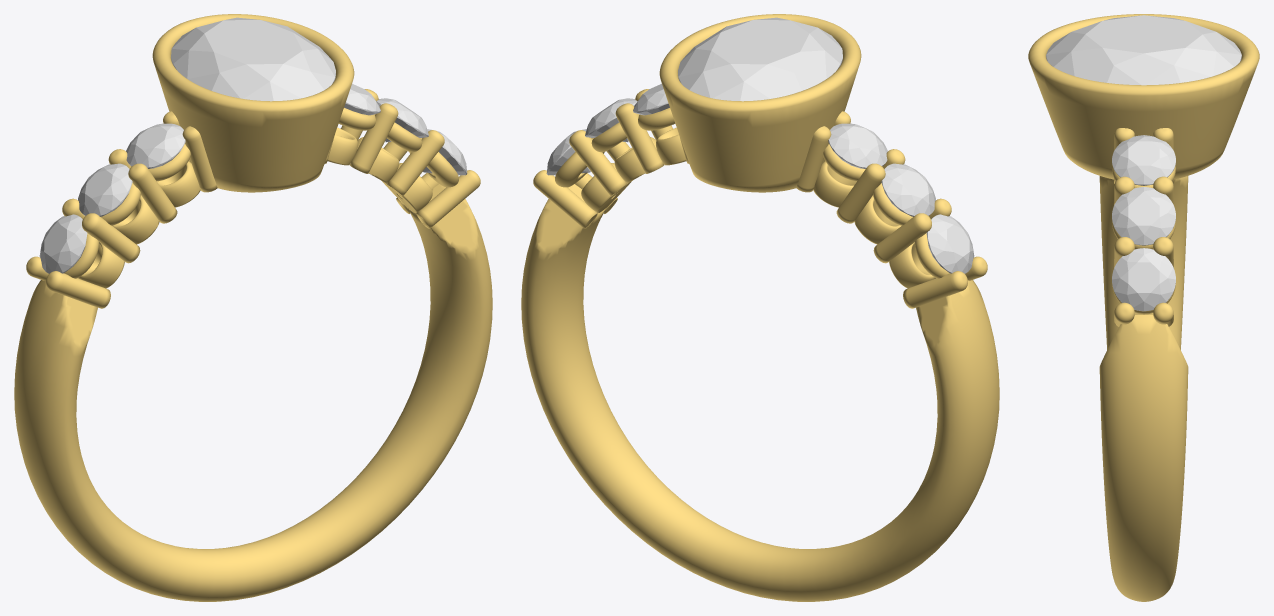
Rendered from diamond-oval-yellowgold-bezelset-taperedband-7stone.glb.
3 views of the same model, side by side, from view 1: azimuth 30°, elevation 25°; view 2: azimuth 150°, elevation 25°; view 3: azimuth 270°, elevation 25° (orthographic).
Parts seen in each view (by area): view 1: metal, stone.002, side.018, side.019, side.020, side.022, side.023, side.021; view 2: metal, stone.002, side.018, side.019, side.020, side.022, side.023, side.021; view 3: metal, stone.002, side.021, side.022, side.023.
Boxes of the visible parts, x1=… form: metal: x1=14, y1=14, x2=492, y2=601; stone.002: x1=171, y1=17, x2=335, y2=101; side.018: x1=39, y1=214, x2=87, y2=273; side.019: x1=78, y1=163, x2=132, y2=216; side.020: x1=126, y1=123, x2=185, y2=168; side.022: x1=376, y1=98, x2=428, y2=142; side.023: x1=340, y1=83, x2=380, y2=124; side.021: x1=422, y1=129, x2=467, y2=175; metal: x1=521, y1=14, x2=999, y2=601; stone.002: x1=678, y1=17, x2=842, y2=101; side.018: x1=926, y1=214, x2=974, y2=273; side.019: x1=881, y1=163, x2=935, y2=216; side.020: x1=828, y1=123, x2=887, y2=168; side.022: x1=585, y1=98, x2=637, y2=142; side.023: x1=633, y1=83, x2=673, y2=124; side.021: x1=546, y1=129, x2=591, y2=175; metal: x1=1028, y1=14, x2=1259, y2=601; stone.002: x1=1046, y1=15, x2=1241, y2=85; side.021: x1=1112, y1=248, x2=1175, y2=311; side.022: x1=1112, y1=187, x2=1175, y2=245; side.023: x1=1112, y1=135, x2=1175, y2=185.
Size of the model in its own units: 20.48 by 23.4 by 9.04.
